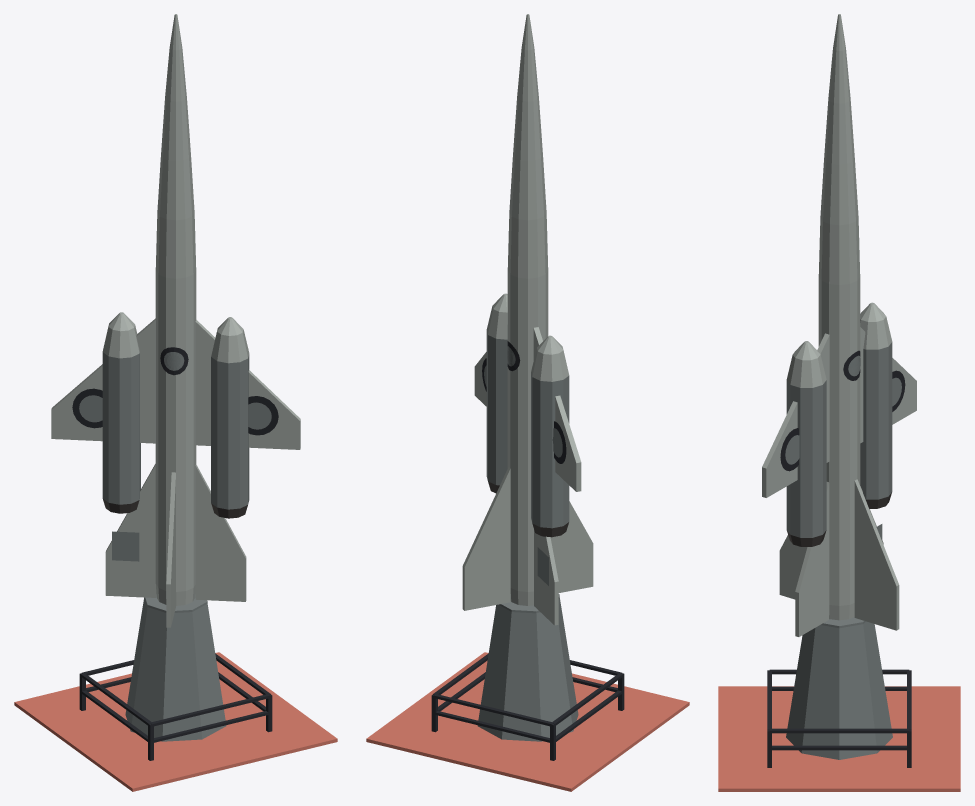
The model's file is cyxd_h14_bomarc.gltf.
3 views of the same model, side by side, from view 1: azimuth 30°, elevation 25°; view 2: azimuth 150°, elevation 25°; view 3: azimuth 270°, elevation 25° (orthographic). The views are drawn at different scales.
Visible parts, largest first — view 1: cyxd_h14_bomarc; view 2: cyxd_h14_bomarc; view 3: cyxd_h14_bomarc.
Boxes of the visible parts, x1,y1,x2,y2 form: cyxd_h14_bomarc: (14, 14, 337, 791); cyxd_h14_bomarc: (366, 14, 689, 791); cyxd_h14_bomarc: (718, 14, 960, 791).
Bounding box in the file's own units: 5.2 × 17.2 × 5.2.
